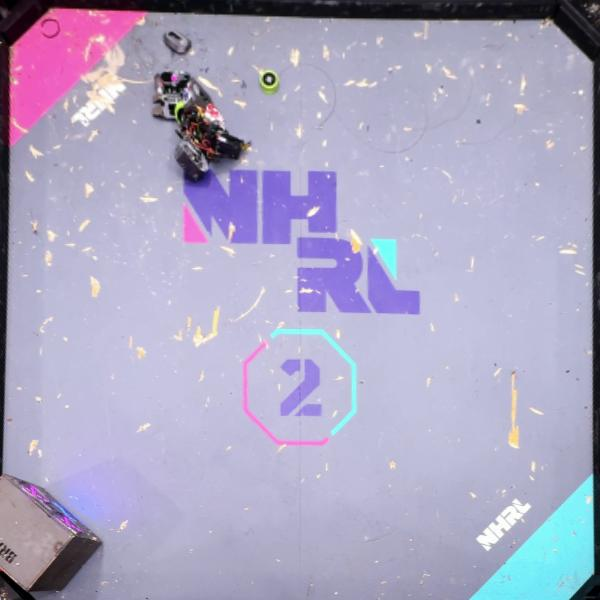housebot: (0, 471, 103, 594)
robot: (172, 96, 254, 184), (151, 70, 198, 122)
